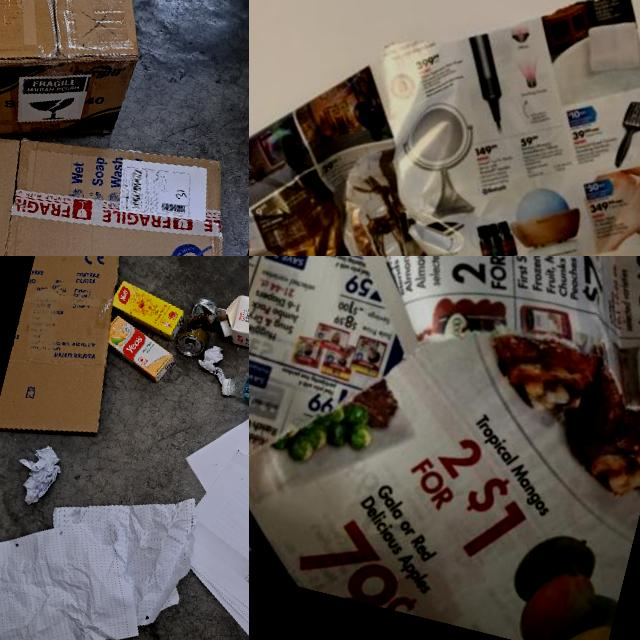aba de lata: (183, 341, 195, 354)
caixinha: (99, 312, 181, 384), (106, 278, 190, 343), (210, 286, 249, 368)
garrafa plástica: (213, 363, 249, 438)
lata: (175, 294, 219, 360)
papel: (249, 256, 640, 640), (249, 0, 640, 256), (0, 446, 206, 640), (140, 350, 249, 640), (194, 342, 232, 384)
papelão: (0, 77, 249, 256), (0, 256, 157, 458), (0, 0, 174, 165), (11, 438, 66, 510)
tampa plástica: (217, 317, 234, 339), (218, 377, 236, 397)
